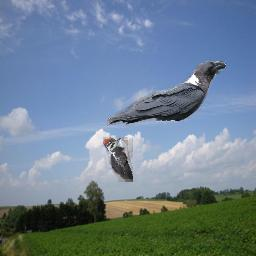Crow: (107, 61, 226, 126)
Woodpecker: (103, 137, 133, 182)
